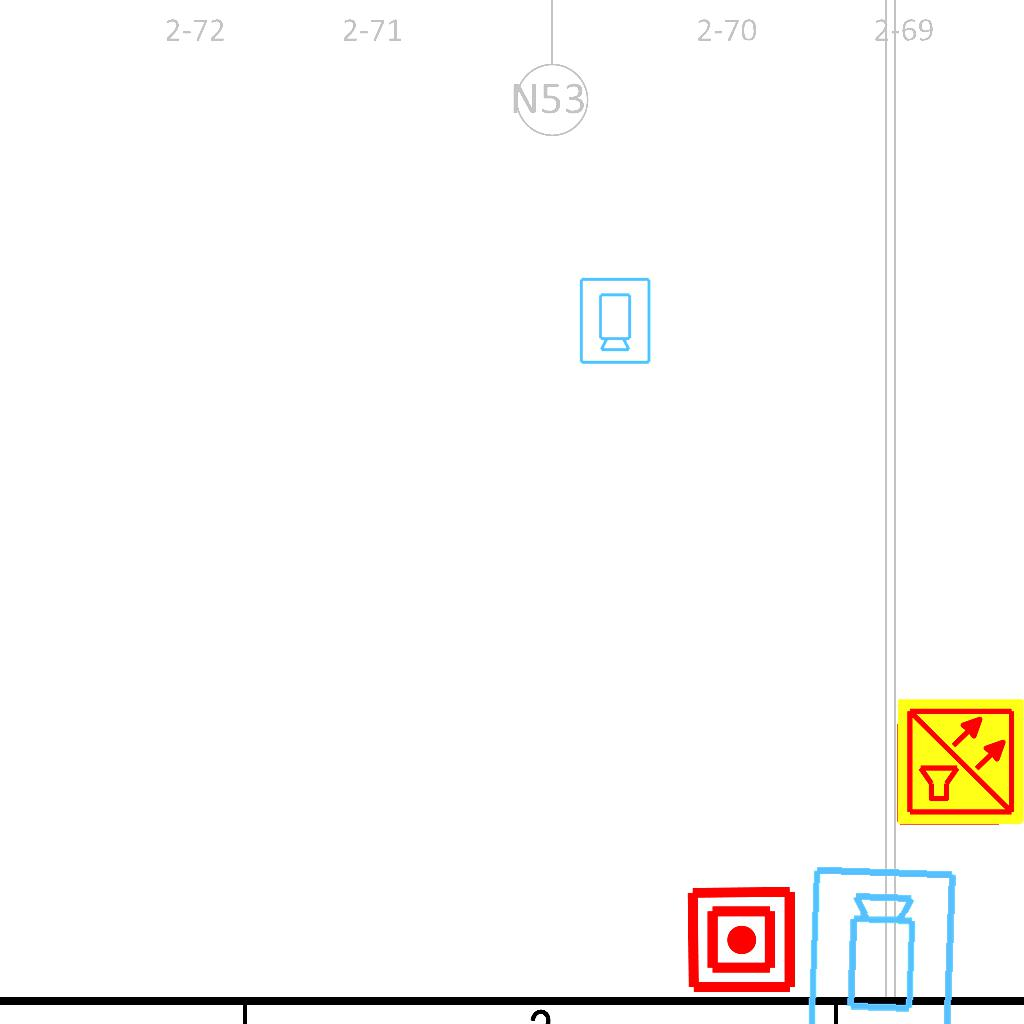KFO_Kamera_mit_Festobjektiv: (802, 862, 964, 1024), (576, 275, 653, 366)
NAM-Nichtautomatischer_Melder: (685, 883, 798, 996)
OKW_Multisensormelder_(Kombination_optischer_Rauch-Kahlenmonoxid_Waerme-Melder): (895, 696, 1024, 828)
